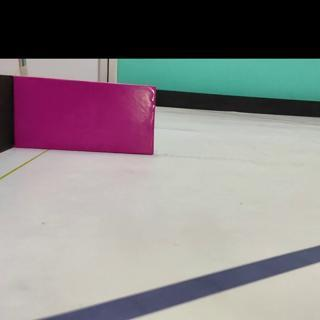xparking: (21, 85, 153, 153)
